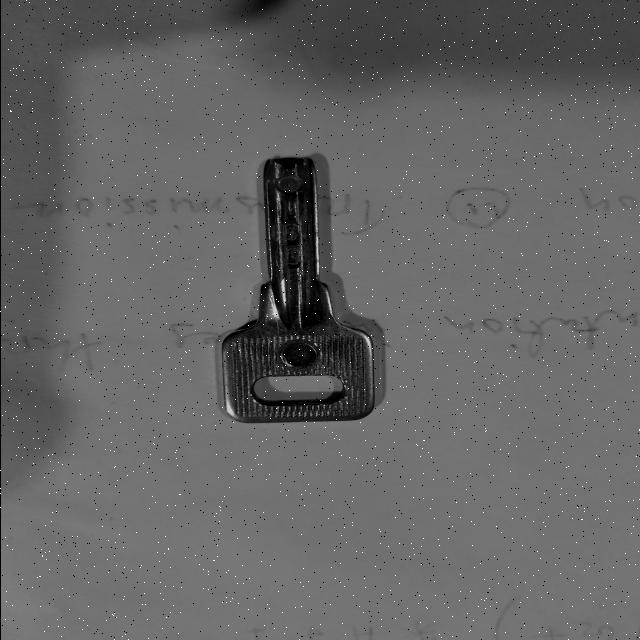key: (222, 157, 374, 423)
